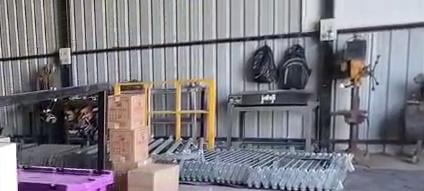box: (18, 167, 113, 190)
